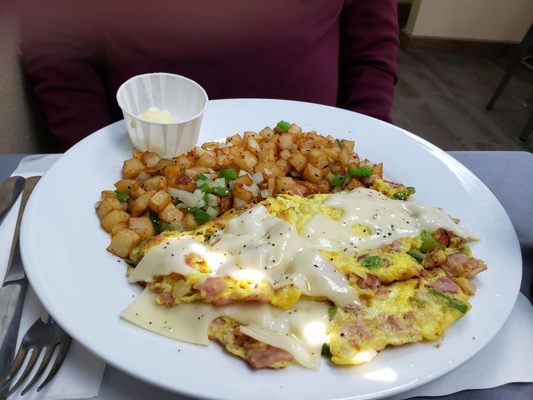burger: (0, 174, 41, 389), (0, 312, 73, 400), (0, 162, 28, 391)
pizza: (117, 72, 209, 160)
